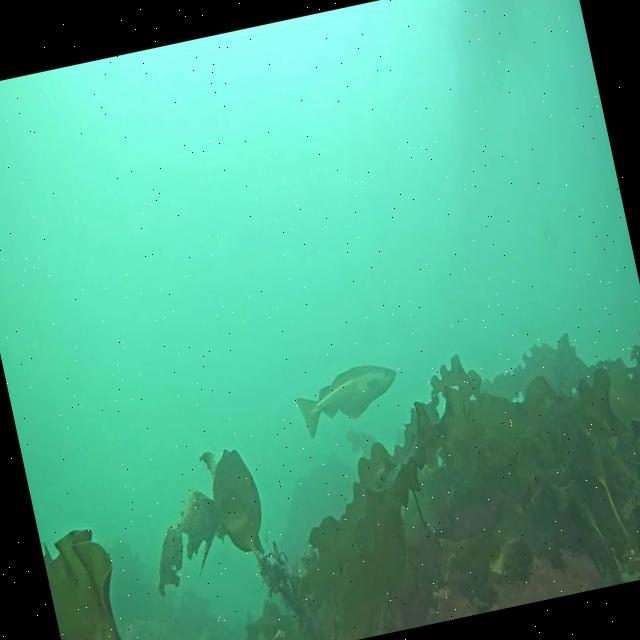fish: (294, 353, 407, 442)
